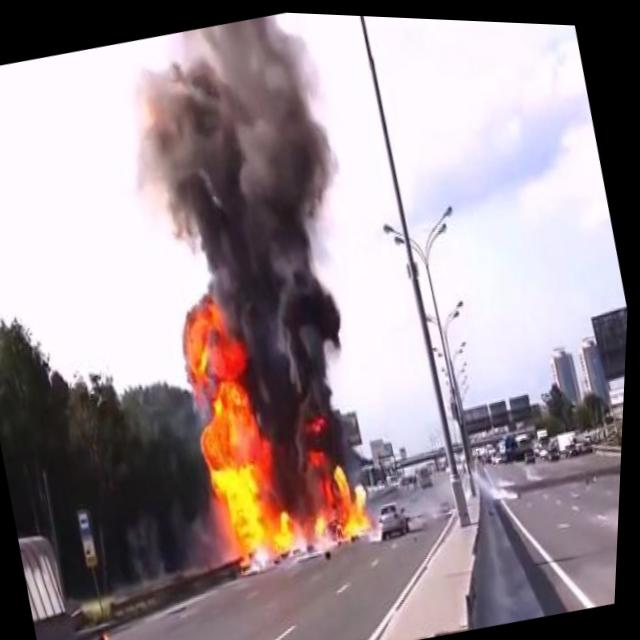fire: (156, 256, 393, 578)
